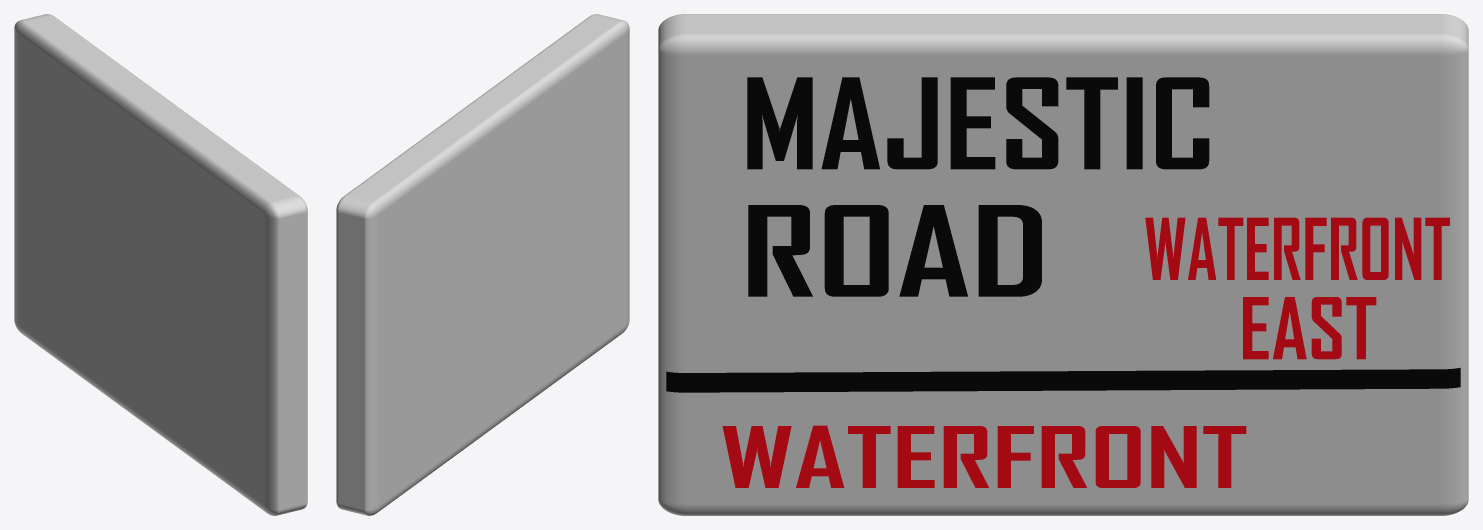
File: uk_styled_street_sign_38.fbx
3 views of the same model, side by side, from view 1: azimuth 30°, elevation 25°; view 2: azimuth 150°, elevation 25°; view 3: azimuth 270°, elevation 25° (orthographic). The views are drawn at different scales.
Parts seen in each view (by area): view 1: Cube; view 2: Cube; view 3: Cube, Text, Text.002, Text.001, Text.003, Text.004.
Part boxes in pixels (left/top/right/bottom): Cube: left=14, top=14, right=307, bottom=515; Cube: left=336, top=14, right=629, bottom=515; Cube: left=658, top=14, right=1468, bottom=515; Text: left=747, top=77, right=1209, bottom=169; Text.002: left=722, top=425, right=1246, bottom=487; Text.001: left=748, top=205, right=1041, bottom=296; Text.003: left=1145, top=217, right=1449, bottom=279; Text.004: left=1243, top=297, right=1376, bottom=359.
Bounding box in the file's own units: 1.63 × 11.91 × 18.18.
